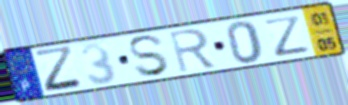0: (224, 20, 265, 66)
3: (80, 41, 118, 86)
R: (167, 26, 219, 75)
S: (126, 33, 173, 79)
Z: (31, 44, 86, 94), (261, 14, 312, 58)
